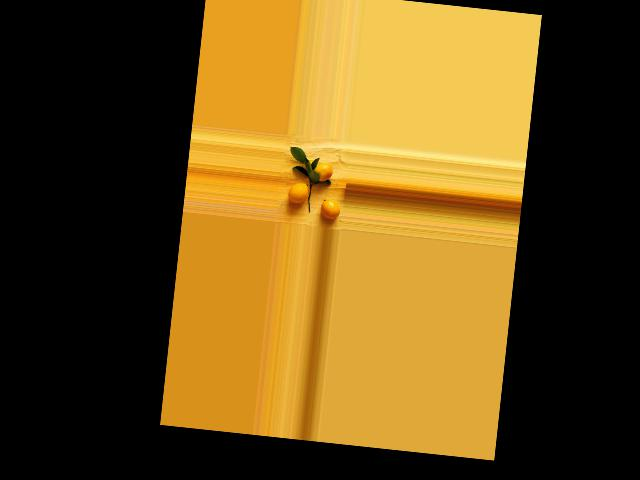lemon: (317, 196, 341, 223)
